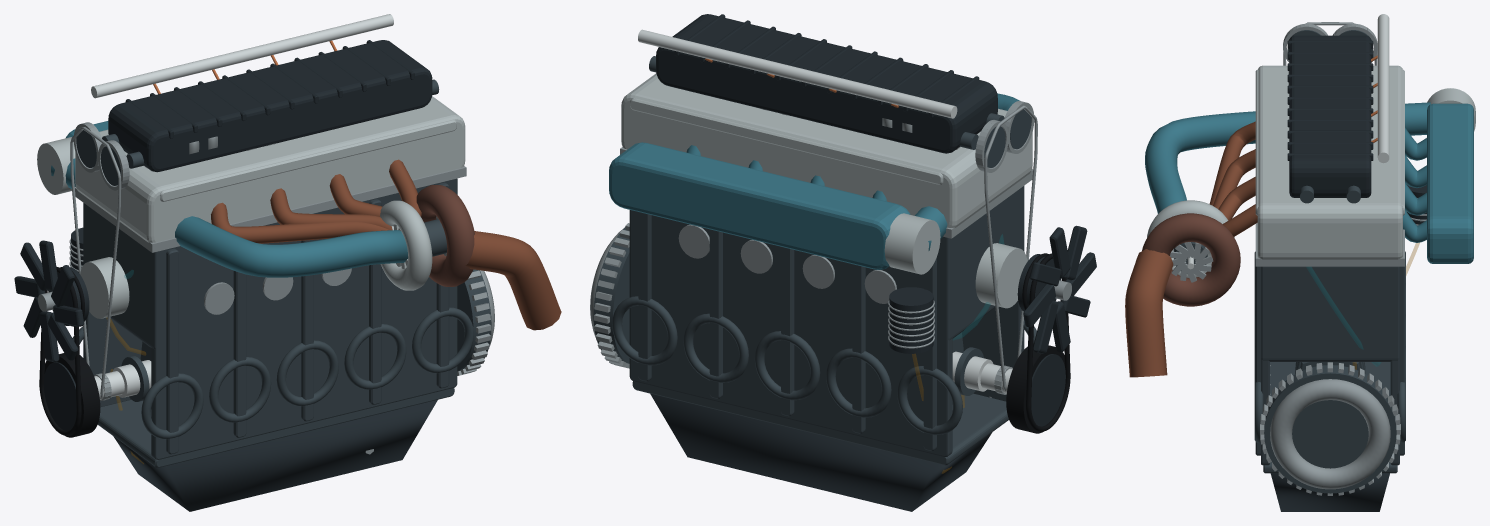
The model's file is semantic-engine.glb.
3 views of the same model, side by side, from view 1: azimuth 30°, elevation 25°; view 2: azimuth 150°, elevation 25°; view 3: azimuth 270°, elevation 25° (orthographic). The views are drawn at different scales.
Parts seen in each view (by area): view 1: structural-solid__engine-block__002__instance-002, structural-solid__cylinder-head__002, structural-solid__cylinder-head__001, structural-solid__oil-pan__002, structural-solid__intake-manifold__007, structural-solid__engine-block__003__instance-001, structural-solid__exhaust-manifold__005, structural-solid__oil-pan__001, structural-solid__injector__001, structural-solid__turbocharger__001, structural-solid__cylinder-head__015, structural-solid__turbocharger__002 (+30 smaller); view 2: structural-solid__engine-block__001__instance-001, structural-solid__cylinder-head__002, structural-solid__cylinder-head__001, structural-solid__intake-manifold__001, structural-solid__oil-pan__002, structural-solid__engine-block__003__instance-001, structural-solid__oil-pan__001, structural-solid__injector__001, structural-solid__cylinder-head__014, structural-solid__intake-manifold__006, structural-solid__engine-block__002__instance-002, structural-solid__oil-system__001 (+32 smaller); view 3: structural-solid__cylinder-head__001, structural-solid__engine-block__004__instance-002, structural-solid__cylinder-head__002, structural-solid__intake-manifold__001, dynamic-mechanism__flywheel__001, dynamic-mechanism__flywheel__002, structural-solid__intake-manifold__007, structural-solid__turbocharger__001, structural-solid__exhaust-manifold__005, structural-solid__oil-pan__002, structural-solid__injector__001, structural-solid__oil-pan__001 (+21 smaller).
Boxes of the visible parts, box(x1,y1,x2,y2) form: structural-solid__engine-block__002__instance-002: box(151, 179, 457, 459); structural-solid__cylinder-head__002: box(108, 40, 432, 172); structural-solid__cylinder-head__001: box(75, 96, 465, 242); structural-solid__oil-pan__002: box(113, 400, 437, 511); structural-solid__intake-manifold__007: box(51, 158, 407, 277); structural-solid__engine-block__003__instance-001: box(83, 203, 166, 349); structural-solid__exhaust-manifold__005: box(465, 231, 561, 330); structural-solid__oil-pan__001: box(98, 388, 454, 467); structural-solid__injector__001: box(91, 14, 393, 98); structural-solid__turbocharger__001: box(416, 185, 474, 286); structural-solid__cylinder-head__015: box(160, 120, 456, 201); structural-solid__turbocharger__002: box(380, 200, 432, 290); structural-solid__engine-block__001__instance-001: box(629, 211, 952, 456); structural-solid__cylinder-head__002: box(656, 14, 997, 153); structural-solid__cylinder-head__001: box(621, 73, 1032, 227); structural-solid__intake-manifold__001: box(609, 142, 910, 269); structural-solid__oil-pan__002: box(650, 393, 992, 511); structural-solid__engine-block__003__instance-001: box(937, 186, 1024, 341); structural-solid__oil-pan__001: box(632, 381, 1008, 465); structural-solid__injector__001: box(638, 29, 957, 118); structural-solid__cylinder-head__014: box(630, 98, 943, 184); structural-solid__intake-manifold__006: box(884, 213, 940, 274); structural-solid__engine-block__002__instance-002: box(962, 300, 1024, 401); structural-solid__oil-system__001: box(889, 287, 933, 353); structural-solid__cylinder-head__001: box(1257, 65, 1402, 259); structural-solid__engine-block__004__instance-002: box(1261, 266, 1399, 361); structural-solid__cylinder-head__002: box(1289, 35, 1371, 197); structural-solid__intake-manifold__001: box(1427, 103, 1473, 263); dynamic-mechanism__flywheel__001: box(1264, 365, 1396, 493); dynamic-mechanism__flywheel__002: box(1270, 379, 1390, 489); structural-solid__intake-manifold__007: box(1145, 102, 1430, 213); structural-solid__turbocharger__001: box(1142, 213, 1240, 306); structural-solid__exhaust-manifold__005: box(1125, 249, 1173, 377); structural-solid__oil-pan__002: box(1270, 473, 1389, 511); structural-solid__injector__001: box(1377, 14, 1389, 163); structural-solid__oil-pan__001: box(1263, 362, 1397, 473).
Size of what is drawn, in the model's own units: 7.23 by 6.44 by 5.4.
